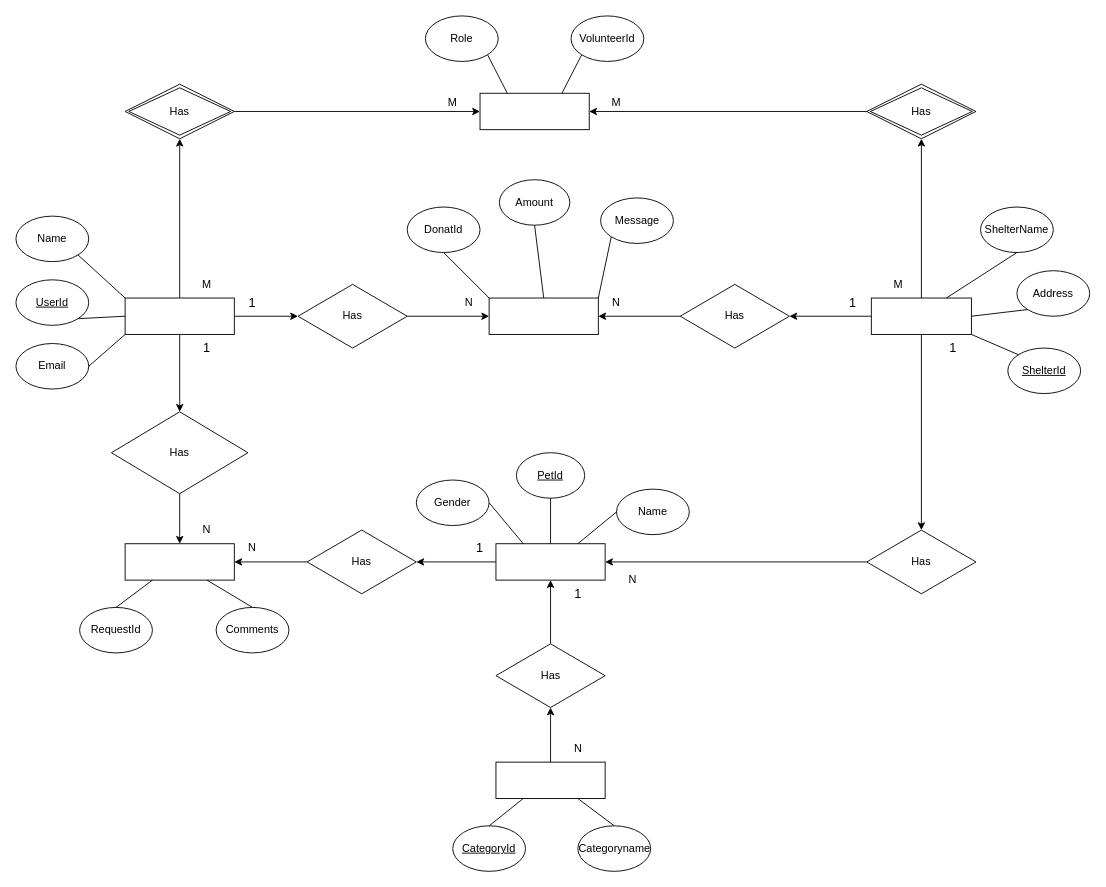
The diagram is 1106 pixels wide and 887 high, and some of its shapes have lost their labels. The shapes that lost their labels are listed below. From the top down, each one's centre as x and y in pixels, then its label:
(534,111): Volunteer
(179,315): User
(543,315): Donation
(920,315): Shelter
(179,561): AdoptionRequest
(550,561): Pet
(550,780): PetCategory
